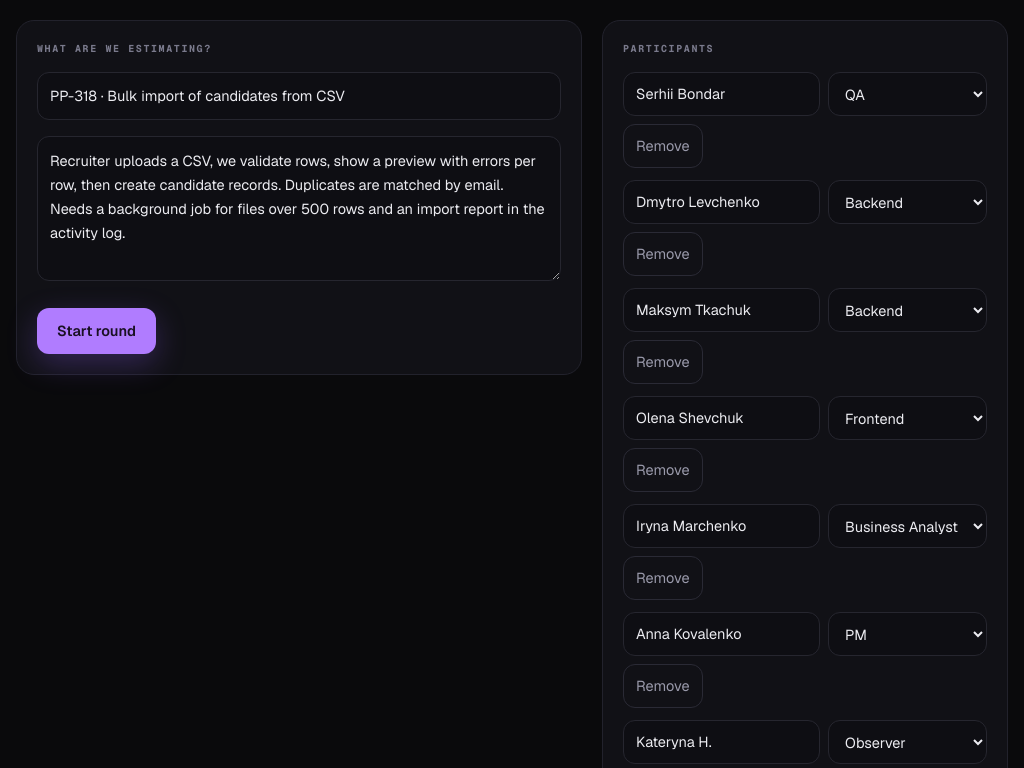
it: the operator builds the roster › changes a participant's role
Select "Backend" in the dropdown named "Part for Olena Shevchuk" at point(908, 418), box x1=828 y1=396 x2=987 y2=440
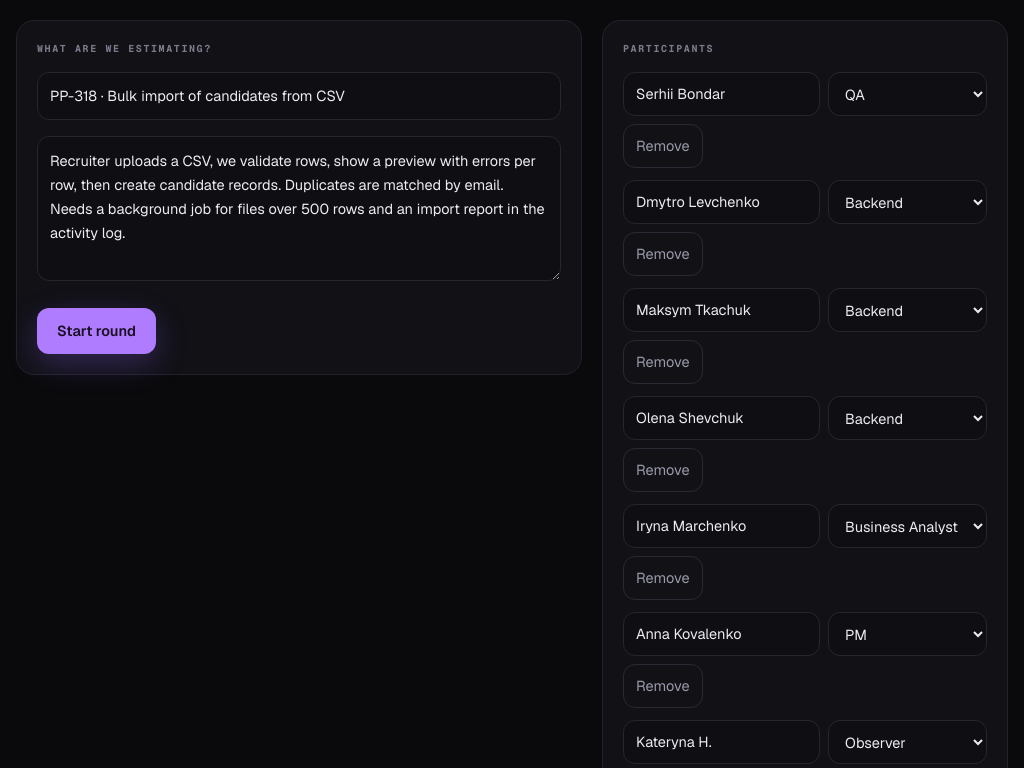
Click the button "Start round" at point(96, 331), box x1=37 y1=308 x2=156 y2=354
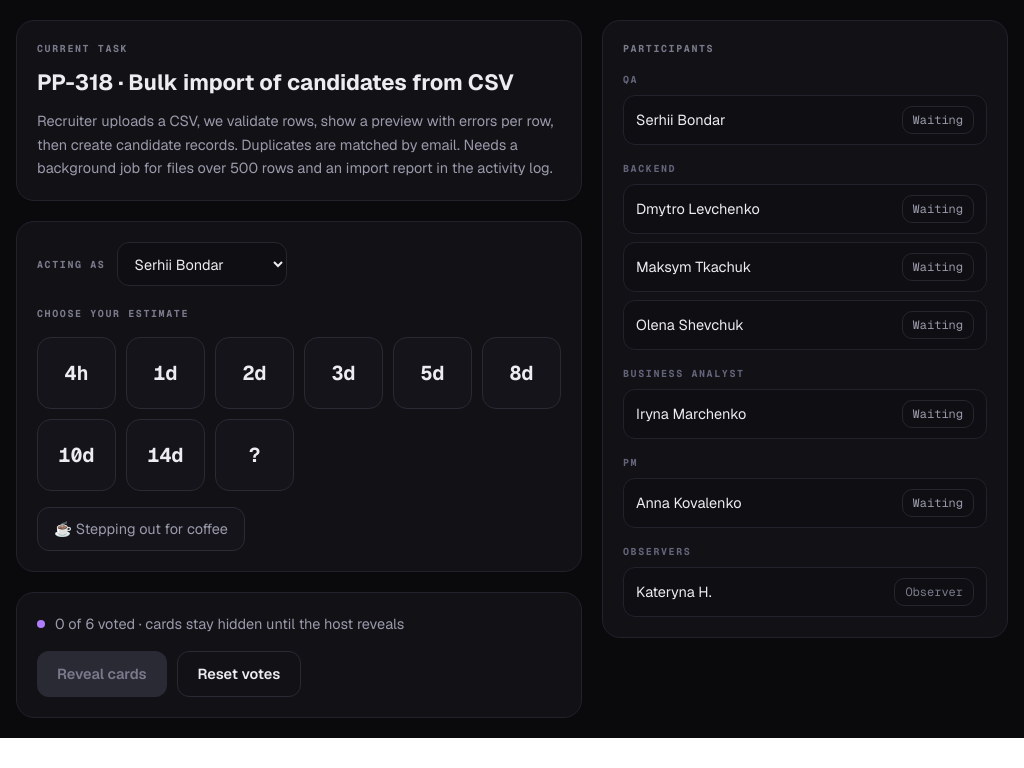
expect the list item "Olena Shevchuk" is shown: met, box x1=636 y1=315 x2=744 y2=334
